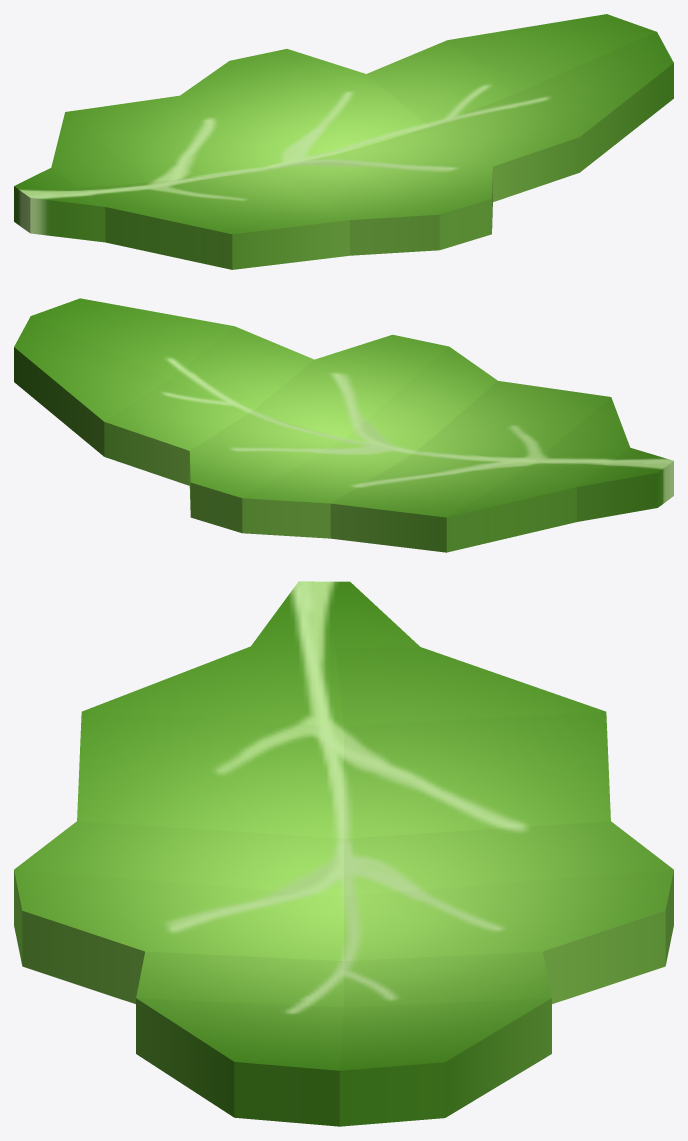
The model's file is Lettuce.fbx.
The picture shows the model from 3 angles, top to bottom: view 1: azimuth 30°, elevation 25°; view 2: azimuth 150°, elevation 25°; view 3: azimuth 270°, elevation 25°; orthographic projection. The views are drawn at different scales.
Visible parts, largest first — view 1: Lettuce; view 2: Lettuce; view 3: Lettuce.
Boxes of the visible parts, x1,y1,x2,y2 form: Lettuce: [14, 14, 673, 269]; Lettuce: [14, 298, 673, 552]; Lettuce: [14, 581, 673, 1126].
Bounding box in the file's own units: 103 × 12.47 × 58.6.
